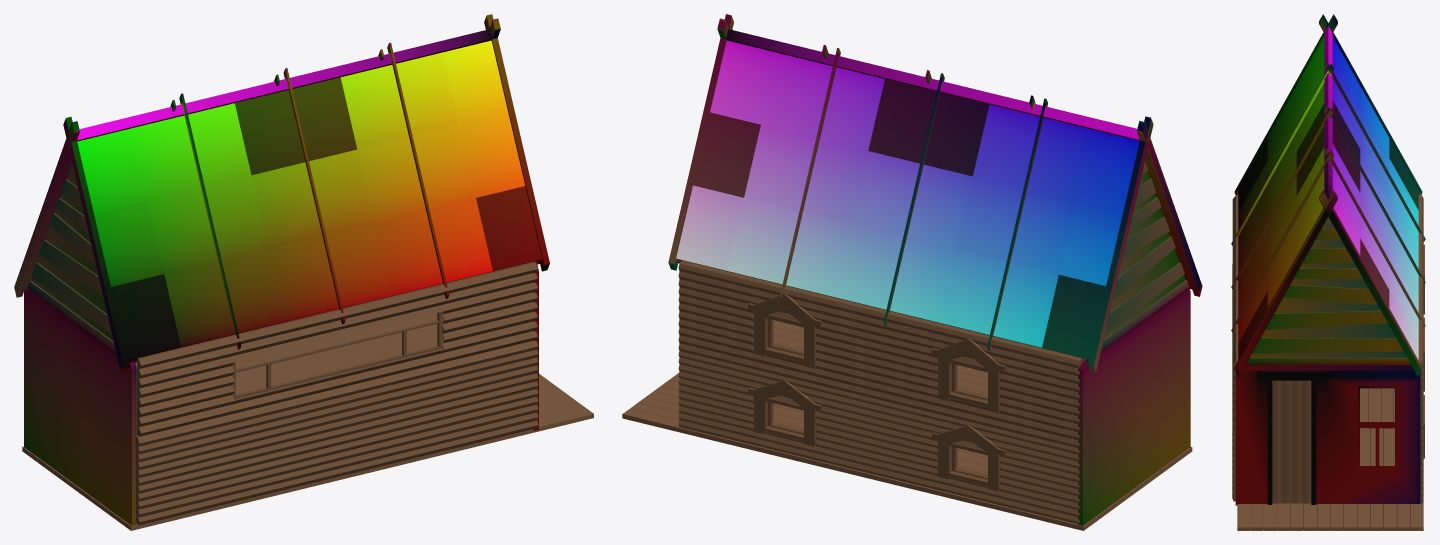
File: Casa con nieve.fbx
3 views of the same model, side by side, from view 1: azimuth 30°, elevation 25°; view 2: azimuth 150°, elevation 25°; view 3: azimuth 270°, elevation 25° (orthographic). The views are drawn at different scales.
Visible parts, largest first — view 1: Roof_01_a, Wall_Wide_02_b, Wall_Wide_03, Wall_Narrow_02_a, DeckFloor_01.001, DeckFloor_01; view 2: Roof_01_a, Wall_Wide_01_b.001, Wall_Wide_01_b, Wall_Narrow_02_a, DeckFloor_01, DeckFloor_01.001; view 3: Roof_01_a, Wall_Narrow_01_a, DeckFloor_01, Door_04, Wall_Wide_01_b.001, Wall_Wide_03, DeckFloor_01.001, Wall_Wide_02_b, Wall_Wide_01_b.
Part boxes in pixels (x1,y1,x2,y2): Roof_01_a: [14, 14, 549, 374]; Wall_Wide_02_b: [136, 340, 538, 525]; Wall_Wide_03: [137, 261, 537, 436]; Wall_Narrow_02_a: [24, 161, 136, 525]; DeckFloor_01.001: [135, 313, 437, 433]; DeckFloor_01: [22, 374, 593, 530]; Roof_01_a: [668, 14, 1202, 372]; Wall_Wide_01_b.001: [678, 260, 1081, 447]; Wall_Wide_01_b: [678, 351, 1079, 523]; Wall_Narrow_02_a: [1078, 162, 1190, 525]; DeckFloor_01: [622, 373, 1192, 530]; DeckFloor_01.001: [773, 320, 987, 395]; Roof_01_a: [1231, 14, 1425, 376]; Wall_Narrow_01_a: [1235, 217, 1420, 505]; DeckFloor_01: [1237, 428, 1423, 530]; Door_04: [1272, 380, 1311, 503]; Wall_Wide_01_b.001: [1418, 194, 1424, 437]; Wall_Wide_03: [1232, 195, 1238, 425]; DeckFloor_01.001: [1360, 388, 1394, 421]; Wall_Wide_02_b: [1232, 264, 1235, 501]; Wall_Wide_01_b: [1420, 317, 1424, 503].
Bounding box in the file's own units: 1009 × 765 × 420.
